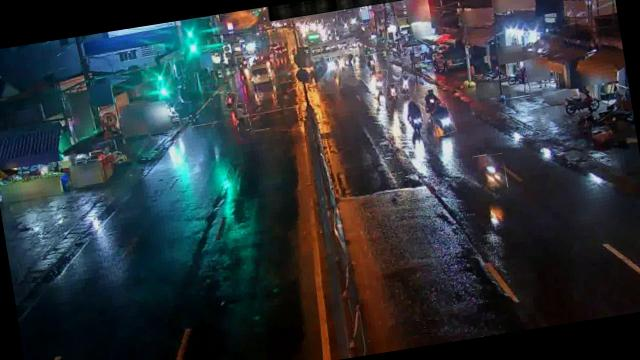Bike: (472, 153, 508, 198), (429, 102, 455, 136), (403, 99, 425, 130), (232, 102, 250, 131), (397, 72, 418, 96), (568, 92, 594, 110), (369, 68, 389, 91), (422, 88, 440, 112), (224, 90, 239, 110), (365, 53, 379, 72), (390, 82, 400, 100)
